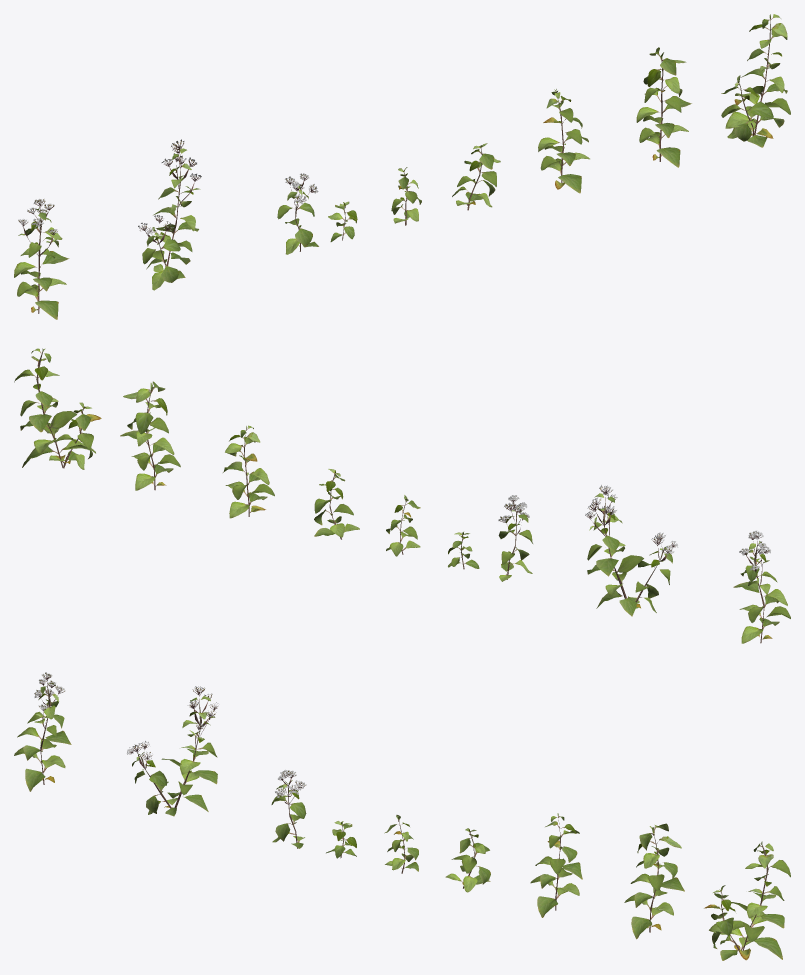
Rendered from shrub_01.glb.
3 views of the same model, one above another, from view 1: azimuth 30°, elevation 25°; view 2: azimuth 150°, elevation 25°; view 3: azimuth 330°, elevation 25° (orthographic).
Parts seen in each view (by area): view 1: shrub_01_a_e, shrub_01_a_d, shrub_01_a_b, shrub_01_a_a, shrub_01_a_c; view 2: shrub_01_a_e, shrub_01_a_d, shrub_01_a_b, shrub_01_a_a, shrub_01_a_c; view 3: shrub_01_a_e, shrub_01_a_d, shrub_01_a_b, shrub_01_a_a, shrub_01_a_c.
Part boxes in pixels (bbox=[...]): shrub_01_a_e: bbox=[636, 14, 790, 167]; shrub_01_a_d: bbox=[328, 89, 589, 241]; shrub_01_a_b: bbox=[138, 139, 201, 290]; shrub_01_a_a: bbox=[14, 198, 69, 319]; shrub_01_a_c: bbox=[277, 173, 318, 254]; shrub_01_a_e: bbox=[14, 348, 180, 490]; shrub_01_a_d: bbox=[223, 425, 479, 569]; shrub_01_a_b: bbox=[585, 485, 678, 616]; shrub_01_a_a: bbox=[733, 530, 790, 643]; shrub_01_a_c: bbox=[498, 495, 532, 581]; shrub_01_a_e: bbox=[624, 823, 790, 960]; shrub_01_a_d: bbox=[326, 813, 582, 917]; shrub_01_a_b: bbox=[127, 686, 218, 816]; shrub_01_a_a: bbox=[14, 672, 71, 791]; shrub_01_a_c: bbox=[271, 769, 306, 848].
Size of the model in its own units: 2.5 by 0.3988 by 0.2213.
Materials: 1 (1 with a texture image).
